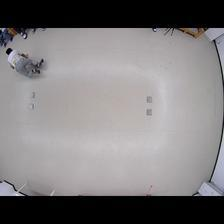fall: (5, 47, 47, 77)
